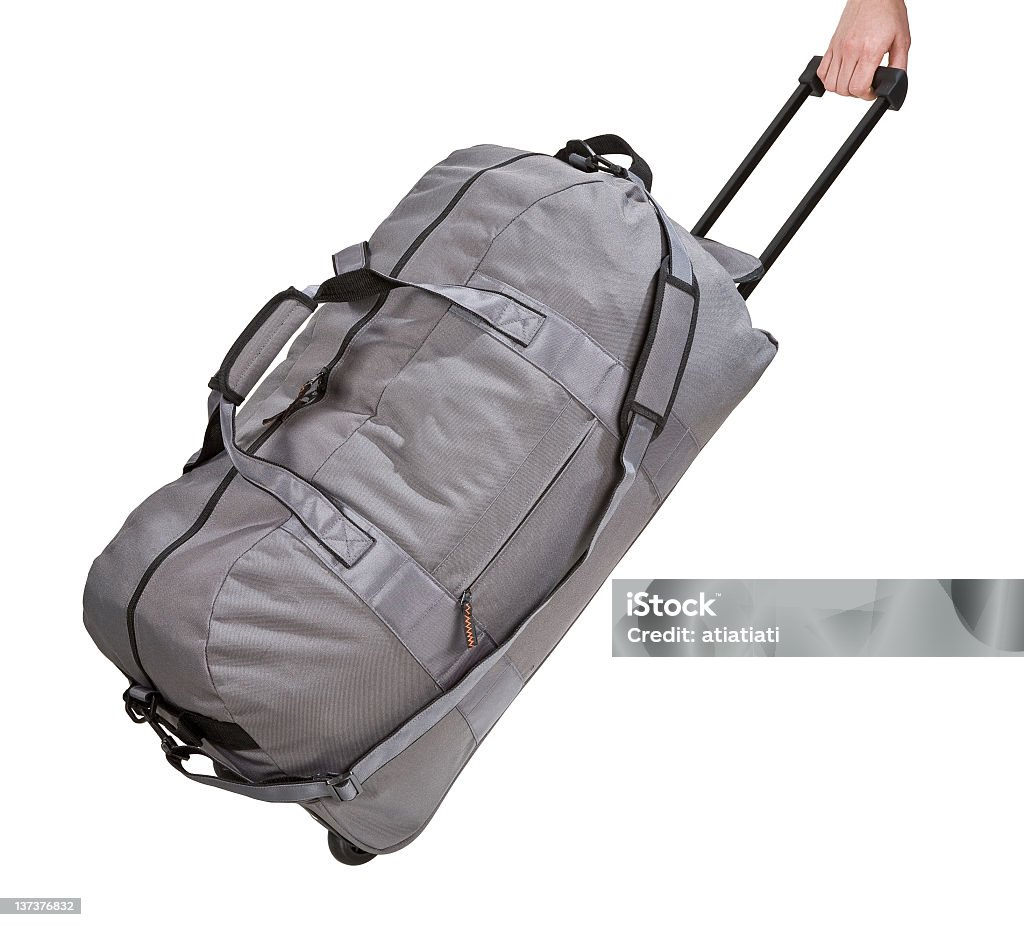Bag: (72, 58, 903, 884)
Handle: (684, 42, 923, 312)
Straps: (192, 208, 700, 802), (186, 244, 544, 585)
